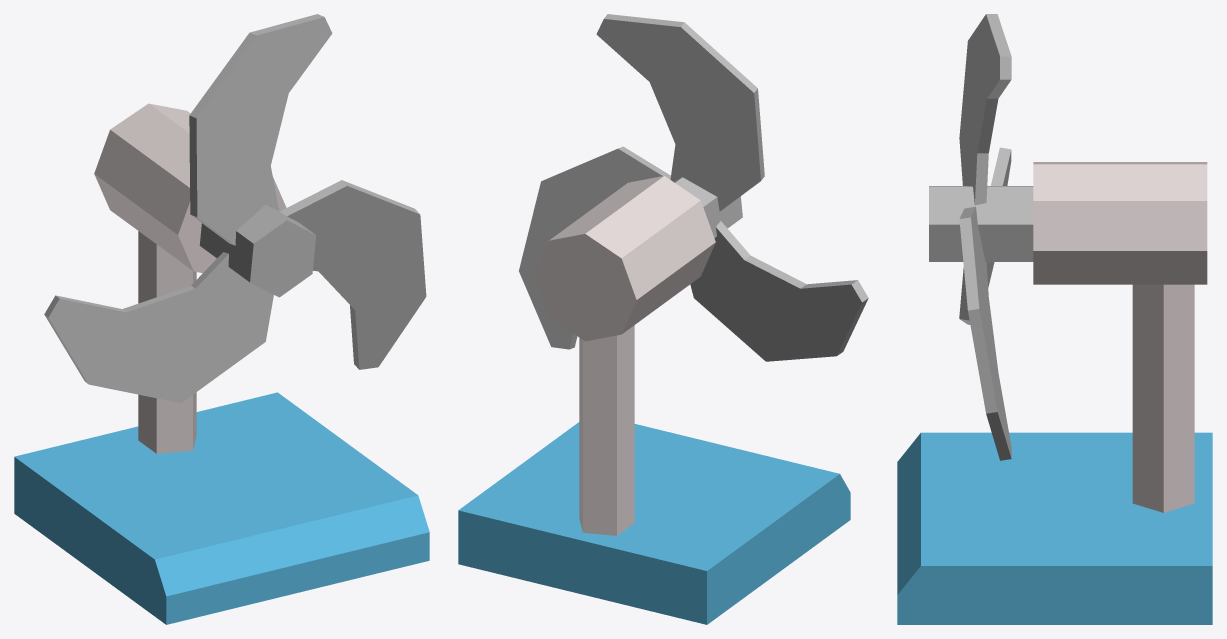
Rendered from Fun_Anime.fbx.
3 renders of one model, left to right at view 1: azimuth 30°, elevation 25°; view 2: azimuth 150°, elevation 25°; view 3: azimuth 270°, elevation 25°, orthographic. The views are drawn at different scales.
Visible parts, largest first — view 1: Stand, Fun_Blade; view 2: Stand, Fun_Blade; view 3: Stand, Fun_Blade.
Boxes of the visible parts, box(x1,y1,x2,y2) form: Stand: box(14, 103, 429, 624); Fun_Blade: box(44, 14, 426, 402); Stand: box(458, 176, 850, 624); Fun_Blade: box(519, 14, 868, 361); Stand: box(897, 162, 1212, 624); Fun_Blade: box(929, 14, 1033, 460).
Bounding box in the file's own units: 205 × 277 × 145.
2 materials, 1 textured.
